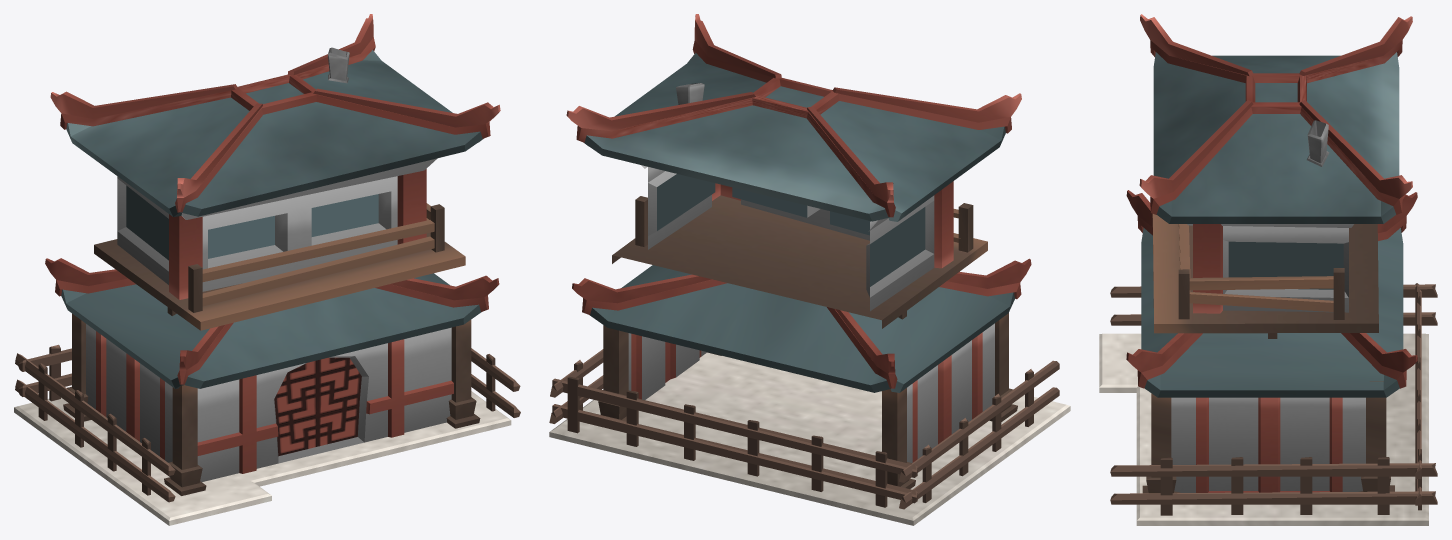
File: blacksmith_3lvl_color.fbx
The picture shows the model from 3 angles, left to right: view 1: azimuth 30°, elevation 25°; view 2: azimuth 150°, elevation 25°; view 3: azimuth 270°, elevation 25°; orthographic projection. The views are drawn at different scales.
Parts seen in each view (by area): view 1: blacksmith_3lvl_color; view 2: blacksmith_3lvl_color; view 3: blacksmith_3lvl_color.
Part boxes in pixels (x1,y1,x2,y2): blacksmith_3lvl_color: (14,14,520,525); blacksmith_3lvl_color: (549,14,1070,525); blacksmith_3lvl_color: (1099,14,1437,525).
Size of the model in its own units: 601 by 533 by 460.
